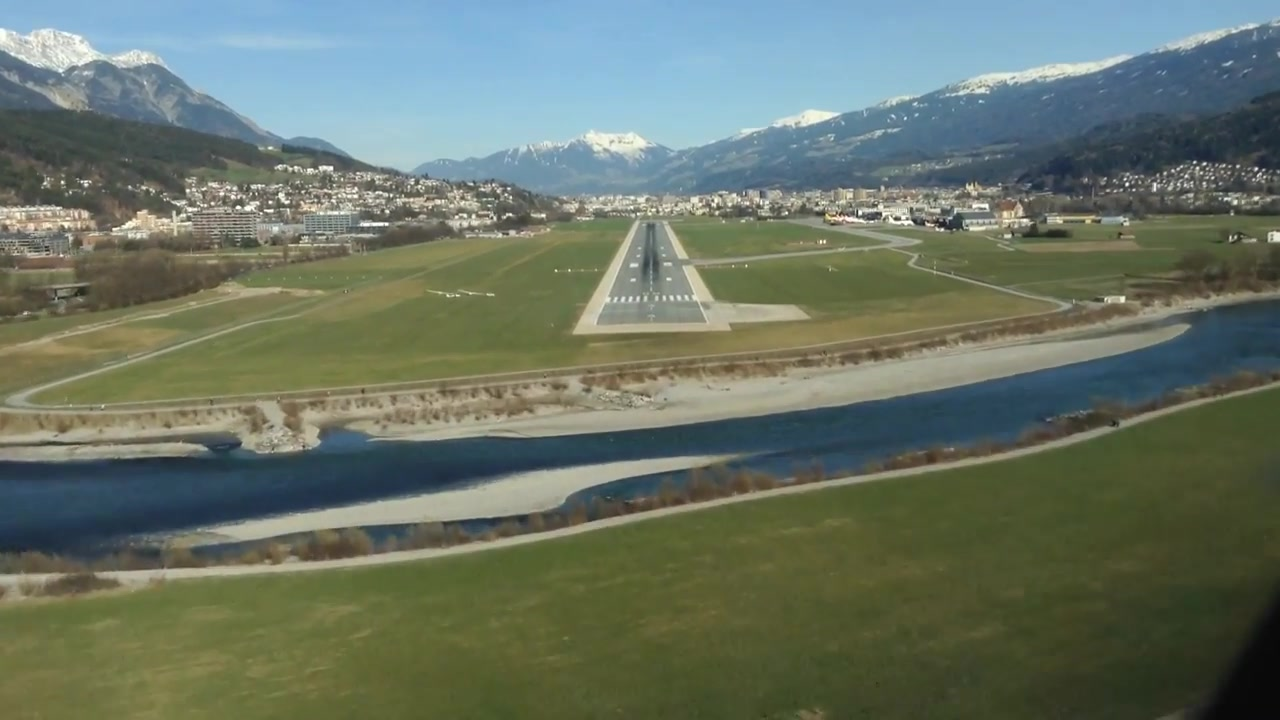entrance: (602, 293, 697, 305)
runway: (596, 221, 709, 324)
